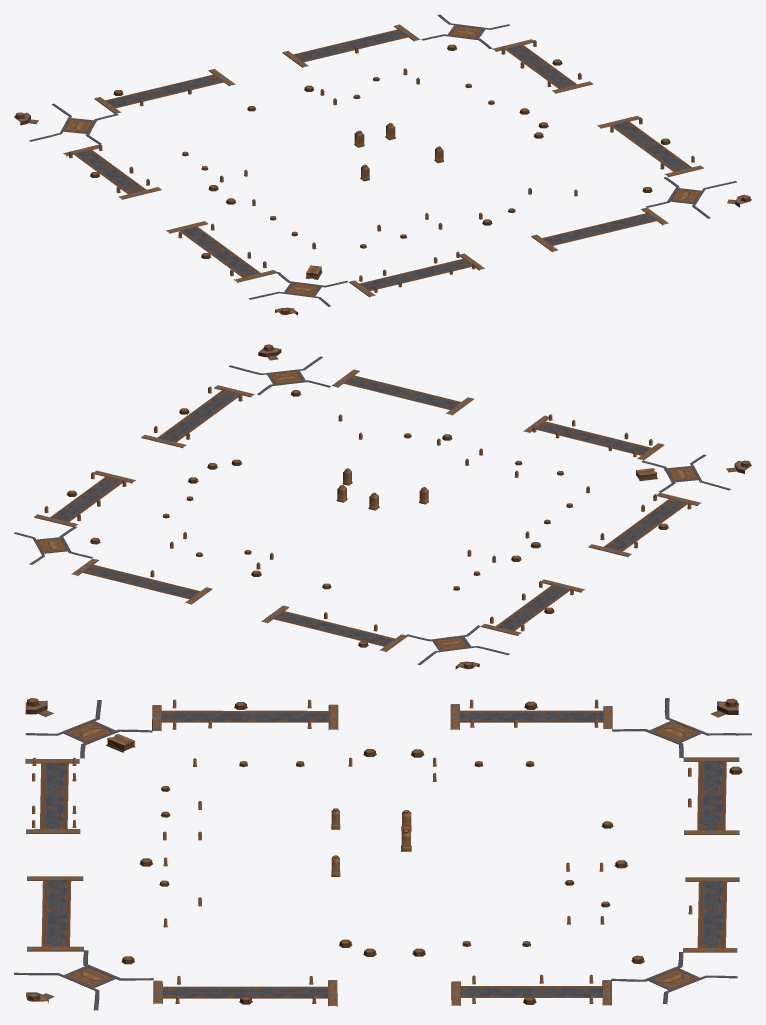
File: zhuangshiwu.fbx
The picture shows the model from 3 angles, top to bottom: view 1: azimuth 30°, elevation 25°; view 2: azimuth 150°, elevation 25°; view 3: azimuth 270°, elevation 25°; orthographic projection. The views are drawn at different scales.
Visible parts, largest first — view 1: zhuangshiwu; view 2: zhuangshiwu; view 3: zhuangshiwu.
Part boxes in pixels (left/top/right/bottom): zhuangshiwu: left=14, top=14, right=751, bottom=315; zhuangshiwu: left=14, top=344, right=751, bottom=669; zhuangshiwu: left=14, top=698, right=751, bottom=1010.
Bounding box in the file's own units: 20339 × 1087 × 20303.
